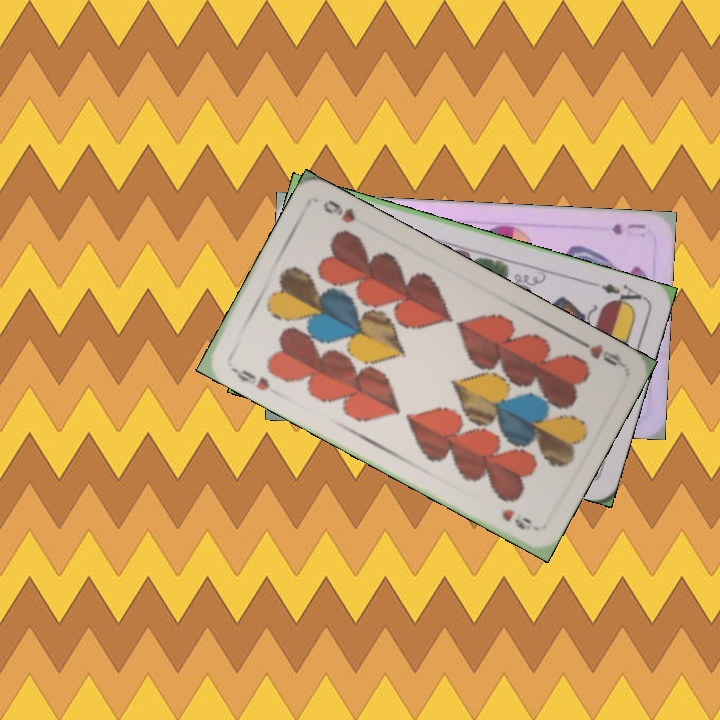EA: (589, 278, 647, 311)
H9: (571, 333, 626, 369), (226, 358, 273, 394)
SU: (607, 219, 648, 237)
